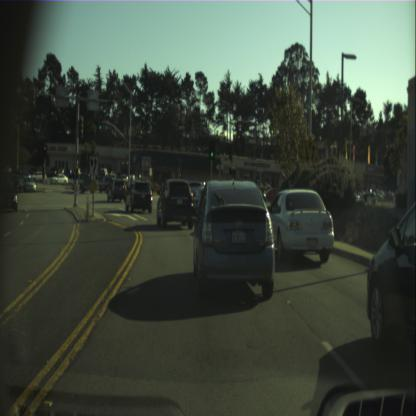Green: (209, 139, 214, 159), (98, 116, 102, 130), (126, 156, 129, 165)
Red: (74, 164, 79, 178)
RedLeft: (43, 145, 47, 157)
